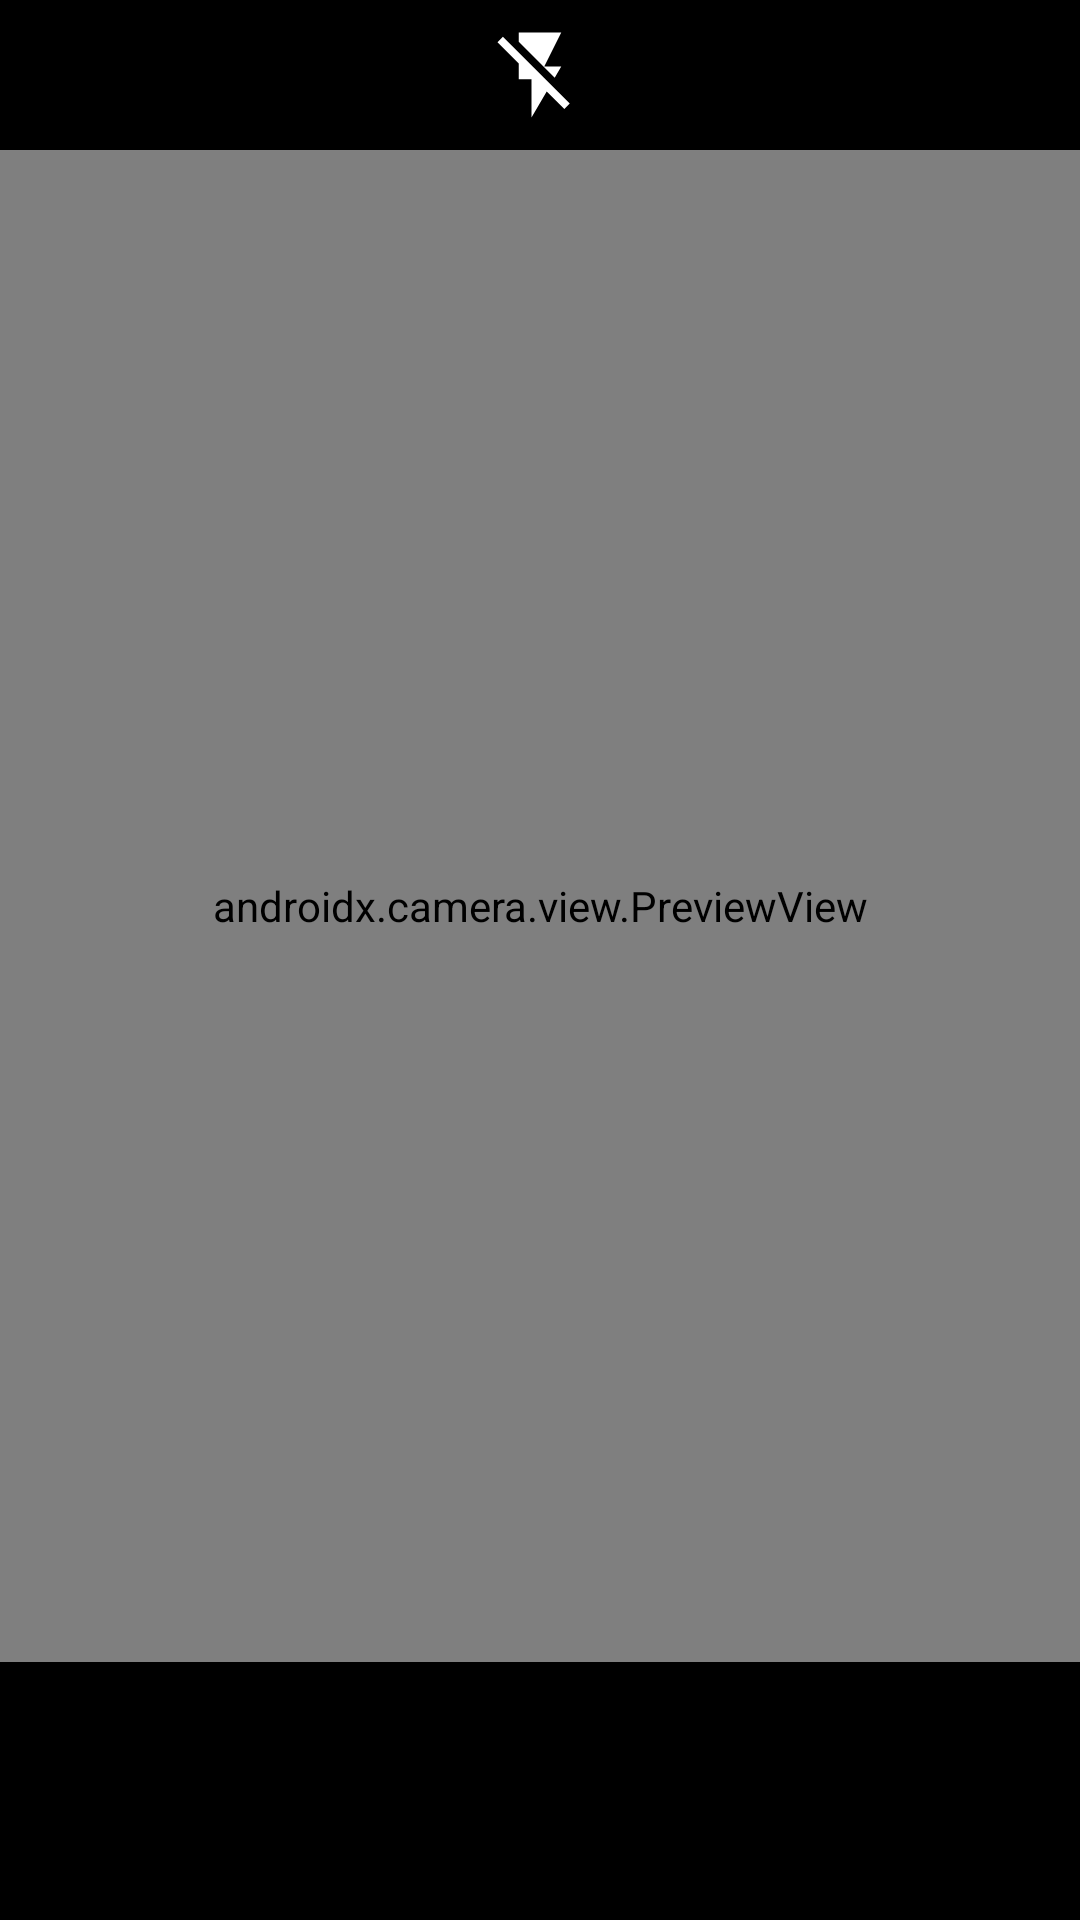

Named icons in this screenshot (1080w x 1920h) and their centers, (x,y):
flash off: (533,74)
